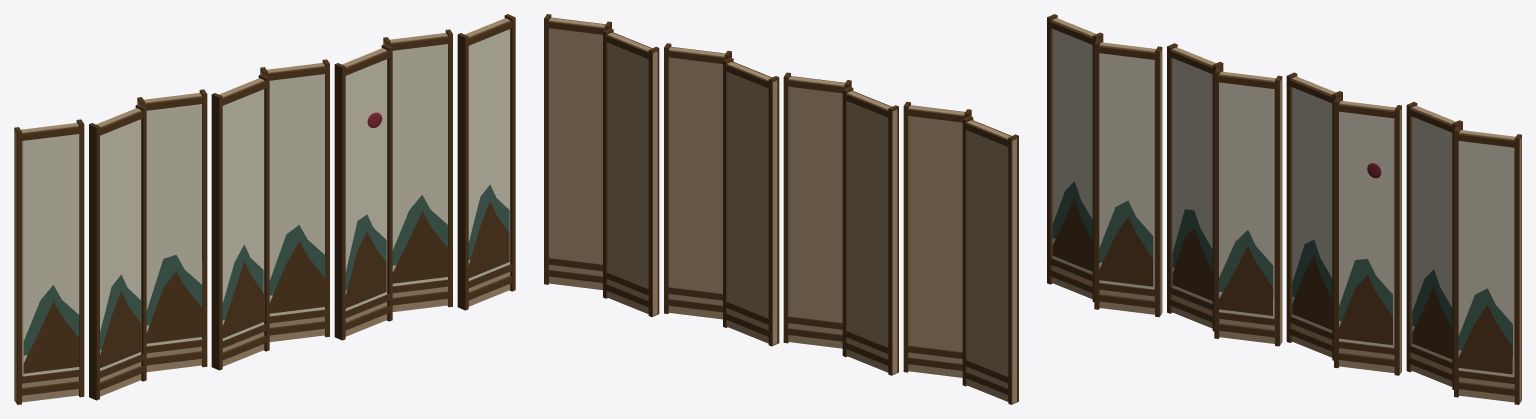
File: mia-folding_screen.glb
3 renders of one model, left to right at view 1: azimuth 30°, elevation 25°; view 2: azimuth 150°, elevation 25°; view 3: azimuth 330°, elevation 25°, orthographic. The views are drawn at different scales.
Visible parts, largest first — view 1: Body_mattress, Body_wood, Body_sage, Body_page-beige; view 2: Body_page-beige, Body_wood; view 3: Body_mattress, Body_wood, Body_page-beige, Body_sage.
Boxes of the visible parts, x1=… form: Body_mattress: x1=23, y1=29, x2=509, y2=376; Body_wood: x1=14, y1=14, x2=515, y2=404; Body_sage: x1=23, y1=184, x2=509, y2=355; Body_page-beige: x1=14, y1=18, x2=510, y2=402; Body_page-beige: x1=549, y1=18, x2=1016, y2=403; Body_wood: x1=544, y1=14, x2=1018, y2=404; Body_mattress: x1=1052, y1=29, x2=1513, y2=376; Body_wood: x1=1047, y1=14, x2=1521, y2=404; Body_page-beige: x1=1052, y1=18, x2=1521, y2=402; Body_sage: x1=1052, y1=181, x2=1512, y2=356.
Bounding box in the file's own units: 3.43 × 1.82 × 0.2489.
